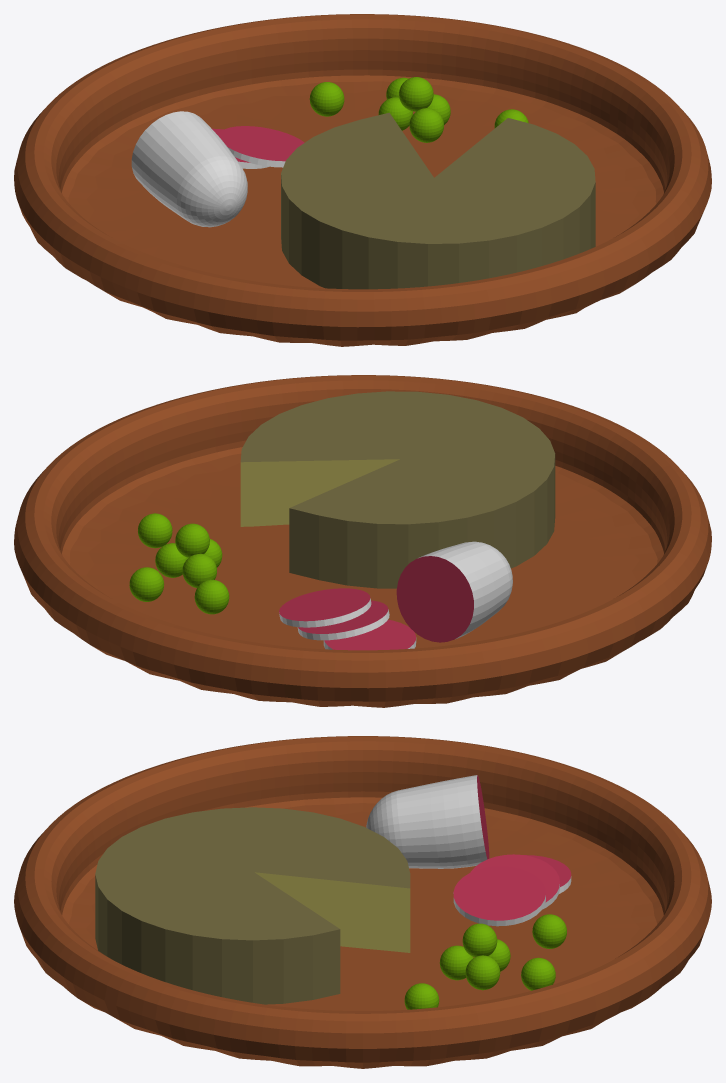
Rendered from piege.glb.
3 views of the same model, one above another, from view 1: azimuth 30°, elevation 25°; view 2: azimuth 150°, elevation 25°; view 3: azimuth 270°, elevation 25° (orthographic).
Parts seen in each view (by area): view 1: Cylindre, Cylindre.002, Cylindre.001, Cylindre.005, Sphère.006, Sphère.004, Sphère.001, Sphère.005; view 2: Cylindre, Cylindre.002, Cylindre.001, Cylindre.005, Cylindre.003, Cylindre.004, Sphère.002, Sphère, Sphère.006, Sphère.001, Sphère.005, Sphère.003; view 3: Cylindre, Cylindre.002, Cylindre.001, Cylindre.005, Cylindre.004, Sphère.003, Sphère.006, Sphère.001, Sphère, Sphère.004, Sphère.002.
Part boxes in pixels (x1,y1,x2,y2): Cylindre: (14, 14, 711, 346); Cylindre.002: (281, 112, 595, 289); Cylindre.001: (131, 111, 247, 227); Cylindre.005: (218, 126, 304, 167); Sphère.006: (309, 82, 344, 116); Sphère.004: (409, 108, 443, 142); Sphère.001: (399, 77, 433, 111); Sphère.005: (378, 97, 412, 130); Cylindre: (14, 375, 711, 707); Cylindre.002: (240, 391, 555, 588); Cylindre.001: (396, 541, 512, 642); Cylindre.005: (279, 588, 371, 627); Cylindre.003: (323, 619, 416, 650); Cylindre.004: (297, 600, 389, 640); Sphère.002: (138, 513, 172, 548); Sphère: (129, 567, 164, 601); Sphère.006: (194, 579, 229, 614); Sphère.001: (175, 523, 209, 557); Sphère.005: (182, 553, 216, 587); Sphère.003: (155, 543, 187, 577); Cylindre: (14, 736, 711, 1068); Cylindre.002: (95, 807, 410, 1004); Cylindre.001: (366, 775, 489, 868); Cylindre.005: (453, 866, 545, 926); Cylindre.004: (470, 854, 559, 909); Sphère.003: (465, 955, 500, 990); Sphère.006: (532, 914, 566, 948); Sphère.001: (462, 923, 497, 957); Sphère: (521, 957, 555, 990); Sphère.004: (439, 945, 473, 980); Sphère.002: (404, 983, 439, 1009).
Bounding box in the file's own units: 0.8798 × 0.1665 × 0.8798.
